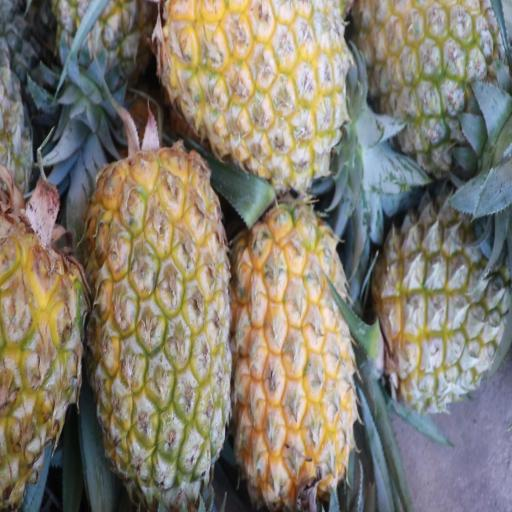------------------------------: (379, 182, 512, 404)
Pineapple - v8 v1: (94, 156, 232, 495), (236, 201, 354, 495), (166, 0, 347, 183), (365, 0, 511, 163)
